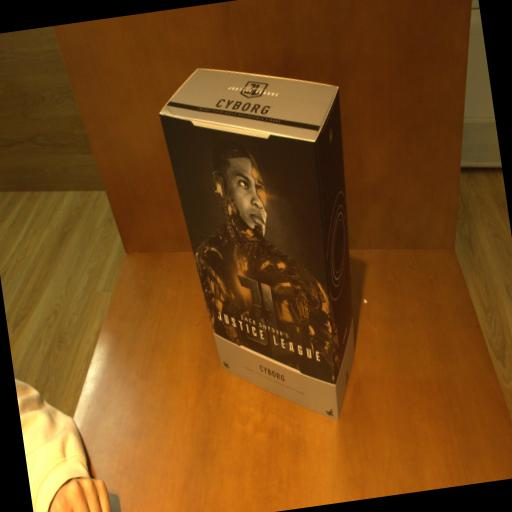Cyborg: (154, 48, 384, 440)
